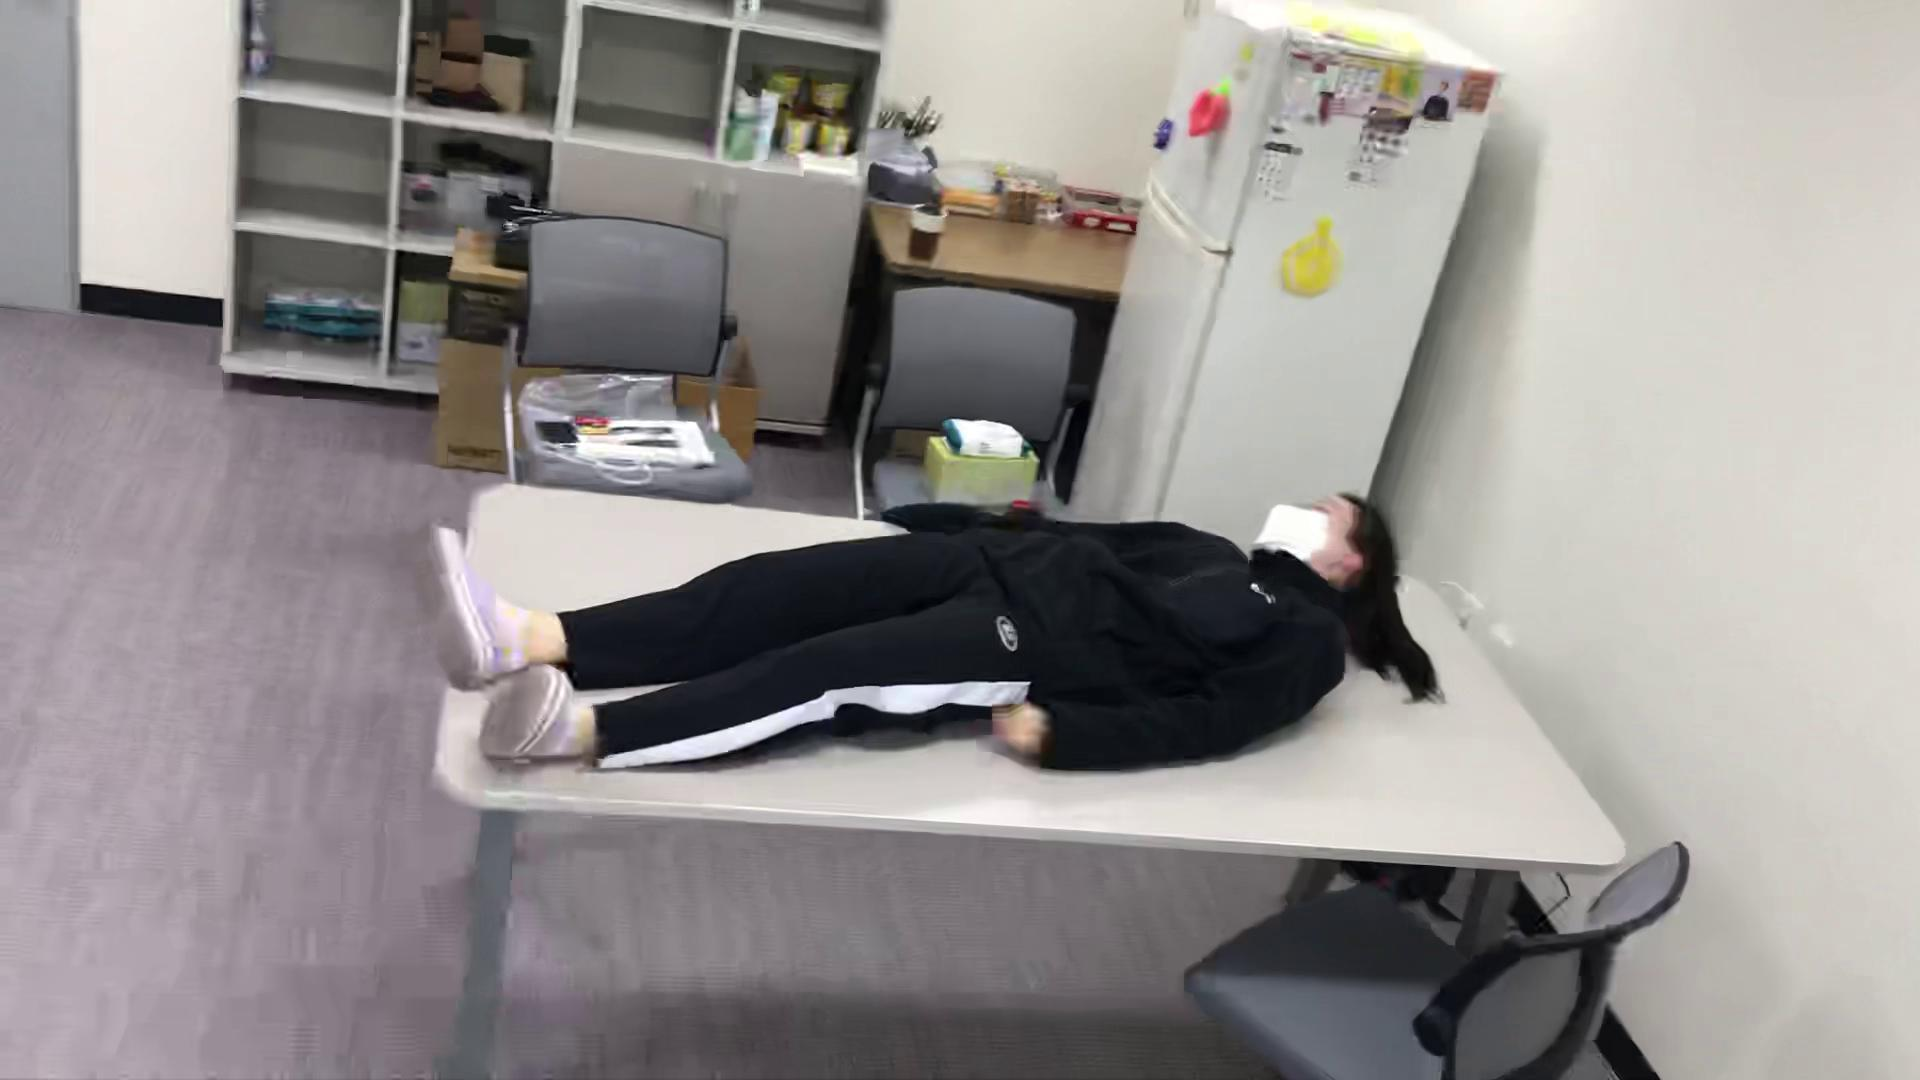sleep: (411, 477, 1410, 796)
